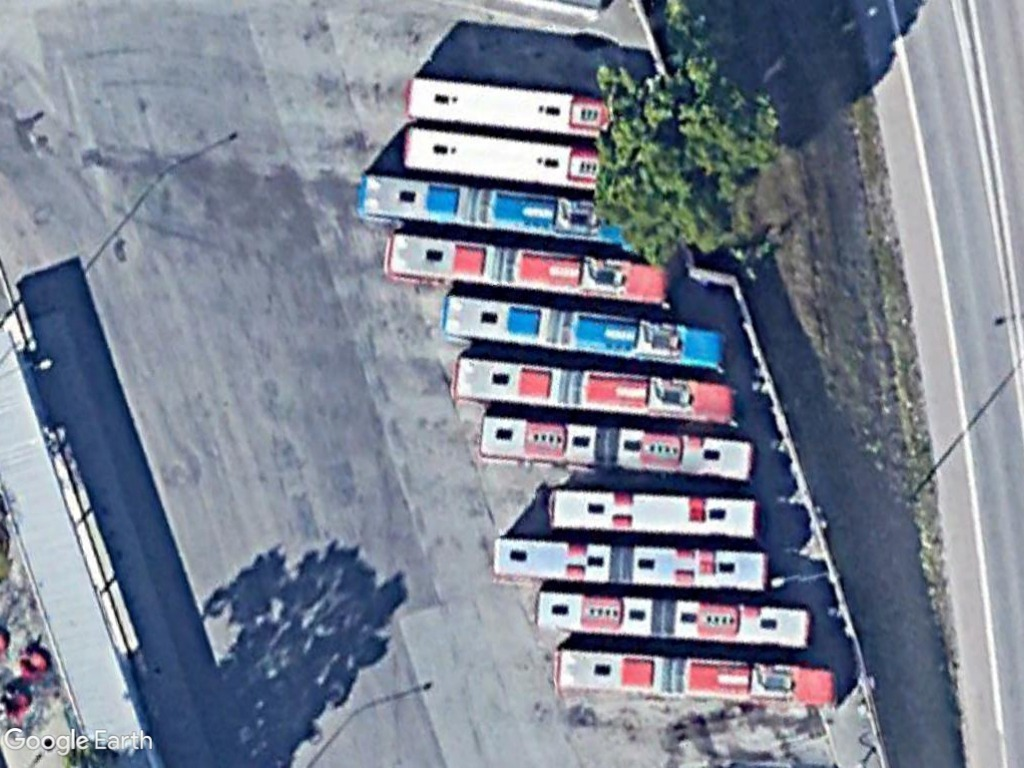bus: (437, 287, 731, 375), (383, 228, 675, 309), (449, 350, 741, 427), (474, 408, 759, 484), (533, 583, 819, 653), (549, 645, 842, 710), (354, 172, 596, 244), (488, 532, 778, 591), (399, 117, 605, 192), (400, 73, 614, 140), (543, 480, 769, 543)
